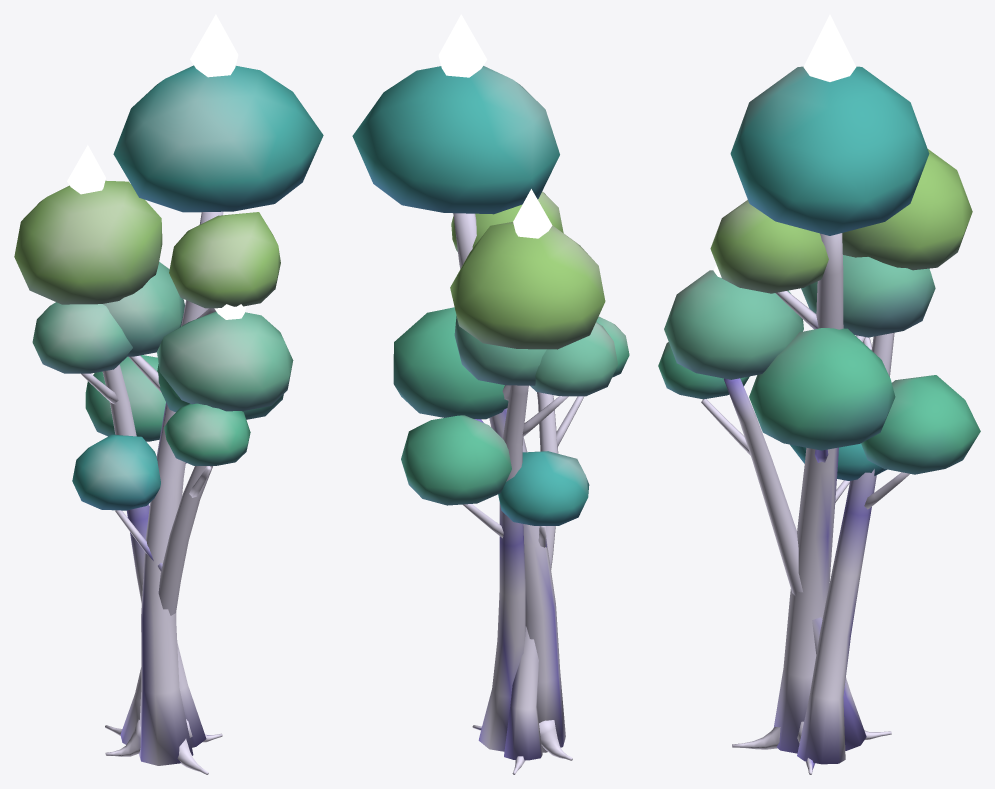
The model's file is verdant_tree_glassbirch_a.glb.
3 views of the same model, side by side, from view 1: azimuth 30°, elevation 25°; view 2: azimuth 150°, elevation 25°; view 3: azimuth 270°, elevation 25° (orthographic). The views are drawn at different scales.
Visible parts, largest first — view 1: verdant_tree_glassbirch_a; view 2: verdant_tree_glassbirch_a; view 3: verdant_tree_glassbirch_a.
Boxes of the visible parts, x1=… form: verdant_tree_glassbirch_a: x1=14, y1=14, x2=323, y2=774; verdant_tree_glassbirch_a: x1=352, y1=14, x2=629, y2=774; verdant_tree_glassbirch_a: x1=658, y1=14, x2=980, y2=774.
Size of the model in its own units: 4.13 by 11.2 by 4.28.
